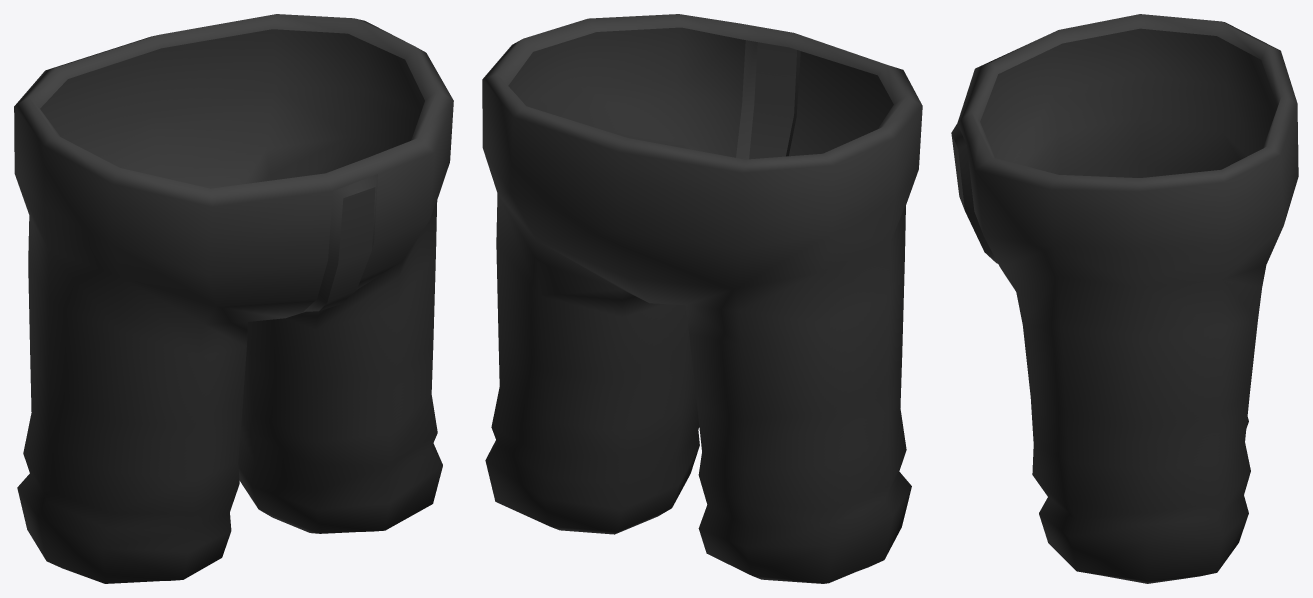
Rendered from Bottom_31.fbx.
3 renders of one model, left to right at view 1: azimuth 30°, elevation 25°; view 2: azimuth 150°, elevation 25°; view 3: azimuth 270°, elevation 25°, orthographic. The views are drawn at different scales.
Visible parts, largest first — view 1: Bottom_31; view 2: Bottom_31; view 3: Bottom_31.
Boxes of the visible parts, x1,y1,x2,y2 form: Bottom_31: [14, 14, 453, 583]; Bottom_31: [482, 14, 922, 583]; Bottom_31: [951, 14, 1298, 583].
Bounding box in the file's own units: 38.38 × 41.84 × 31.97.
